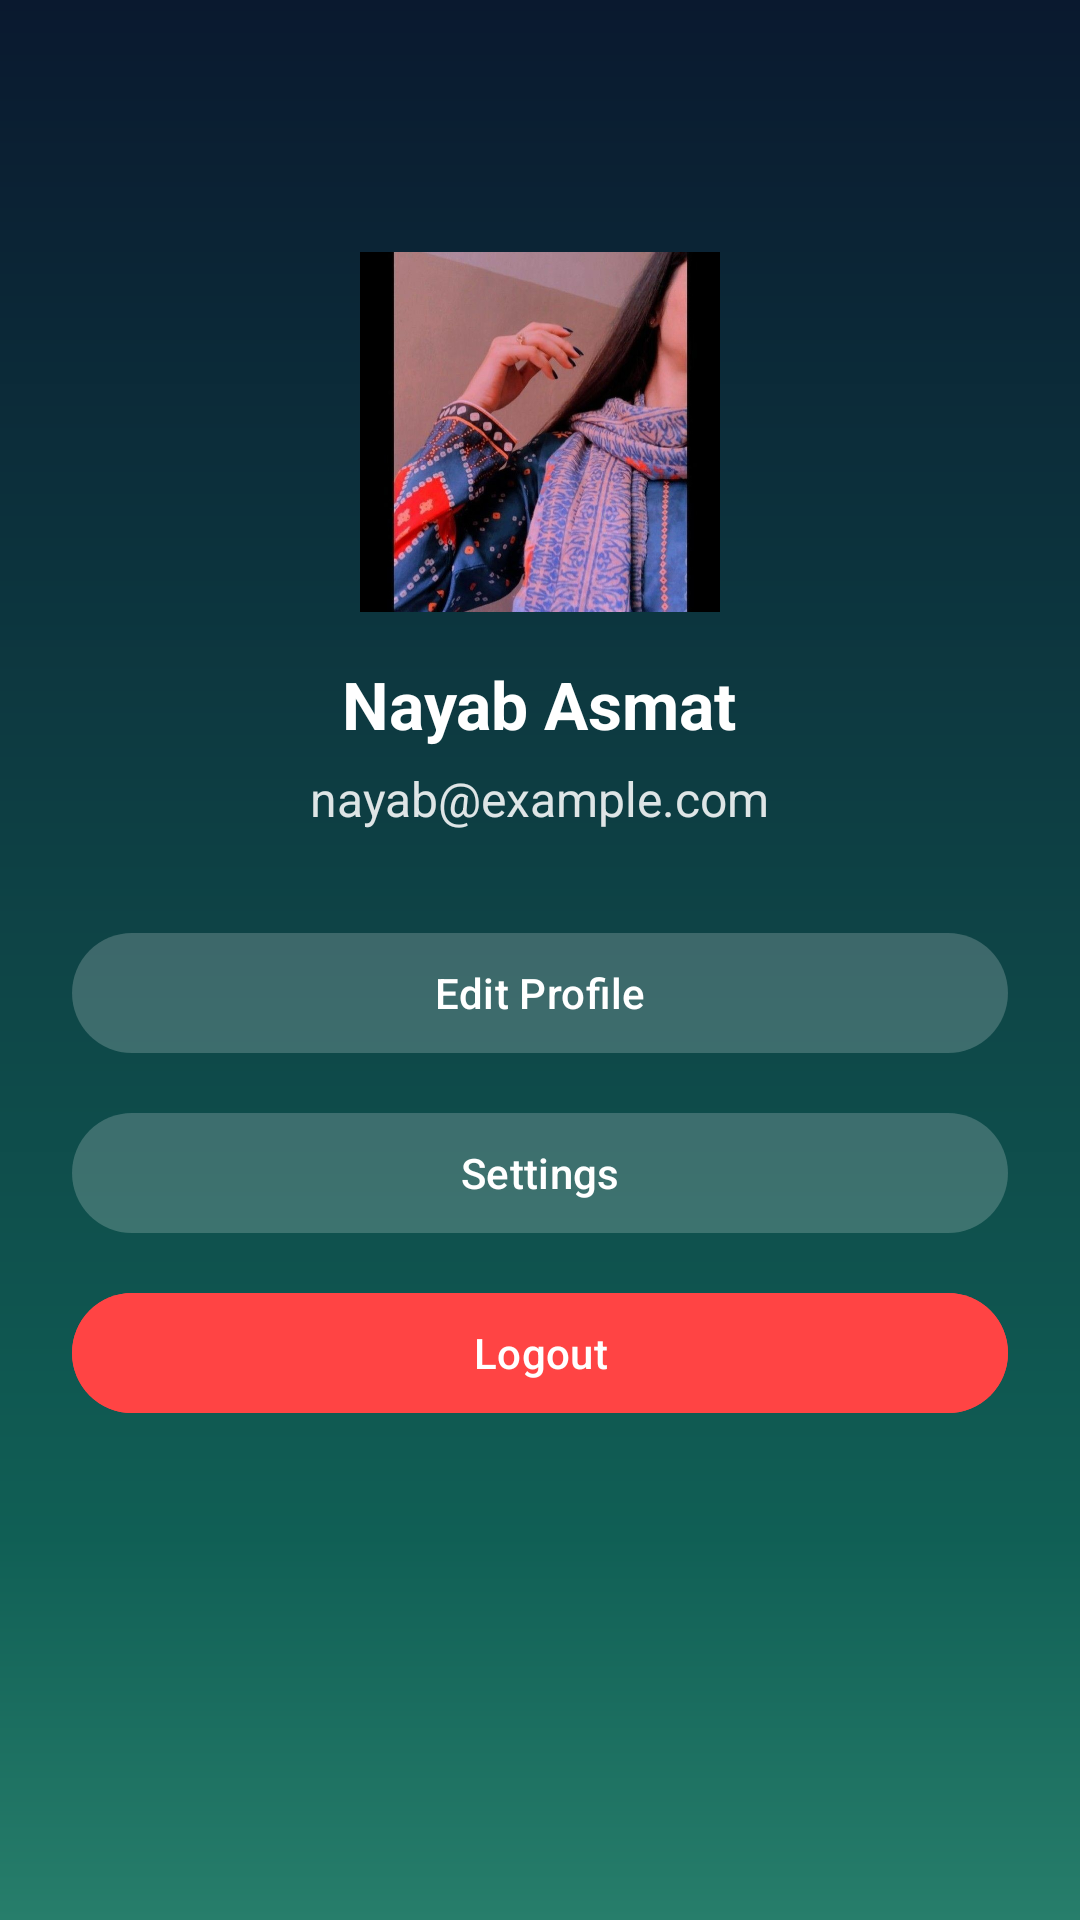

Locate icon controls on the screen. Image size 1080x1920, boxes as (left=x1, top=y1, right=x2, bottom=y2).
profile: (left=360, top=252, right=720, bottom=612)
